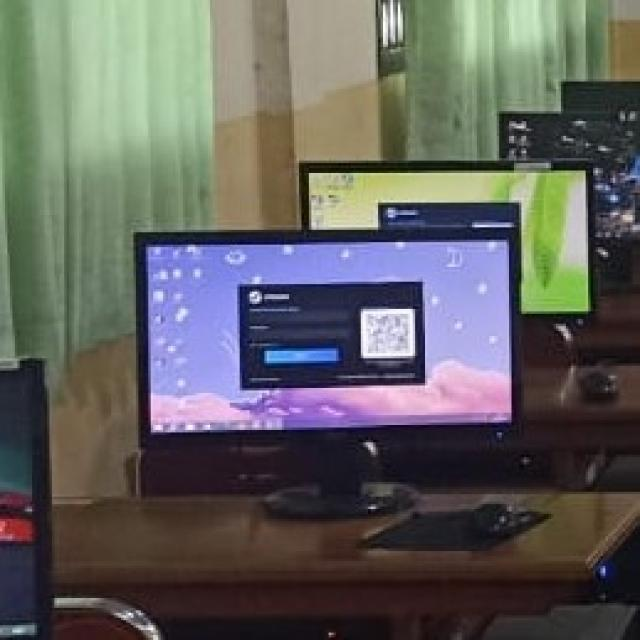offscreen: (561, 81, 640, 113)
onscreen: (138, 232, 517, 449), (300, 164, 593, 313), (500, 111, 640, 237)
